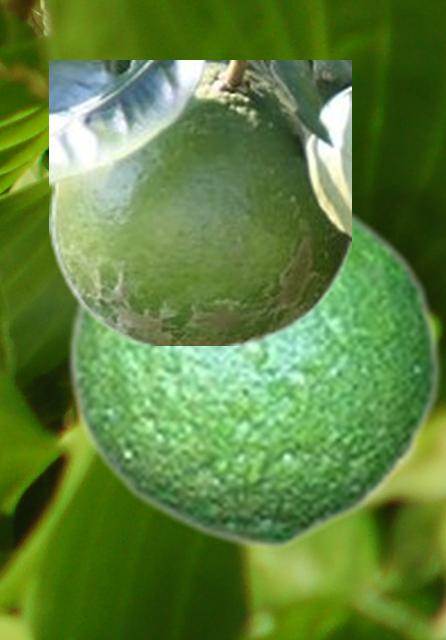dalandan: (64, 202, 441, 550), (49, 60, 350, 344)
